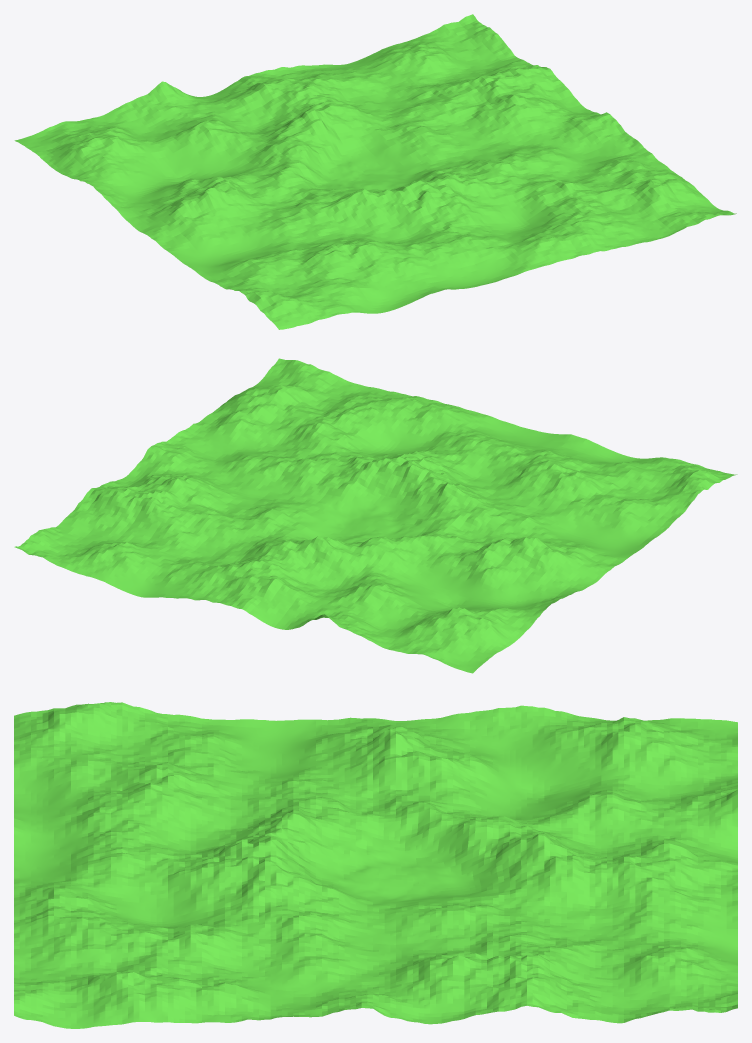
Rendered from hills.glb.
The picture shows the model from 3 angles, top to bottom: view 1: azimuth 30°, elevation 25°; view 2: azimuth 150°, elevation 25°; view 3: azimuth 270°, elevation 25°; orthographic projection. The views are drawn at different scales.
Parts seen in each view (by area): view 1: Landscape; view 2: Landscape; view 3: Landscape.
Part boxes in pixels (left/top/right/bottom): Landscape: left=14, top=14, right=736, bottom=329; Landscape: left=14, top=358, right=737, bottom=673; Landscape: left=14, top=702, right=737, bottom=1028.
Size of the model in its own units: 177 by 13.51 by 177.
